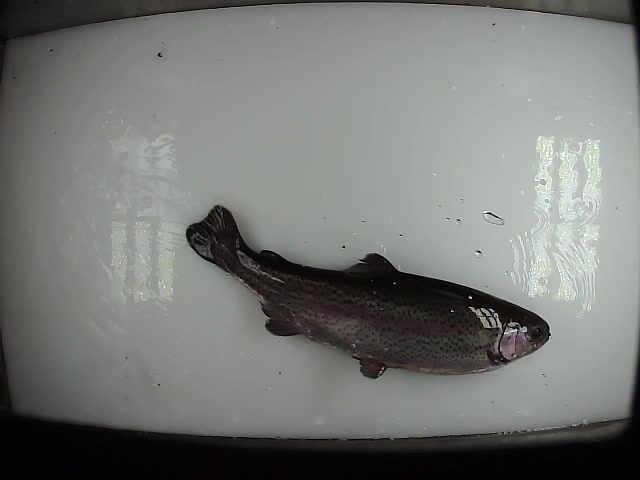fish: (185, 204, 551, 382)
